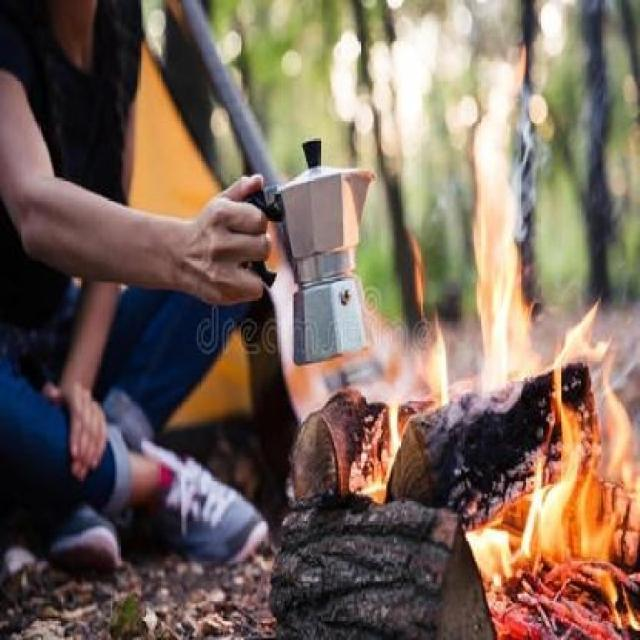Fire: (385, 100, 634, 628), (352, 394, 387, 502)
